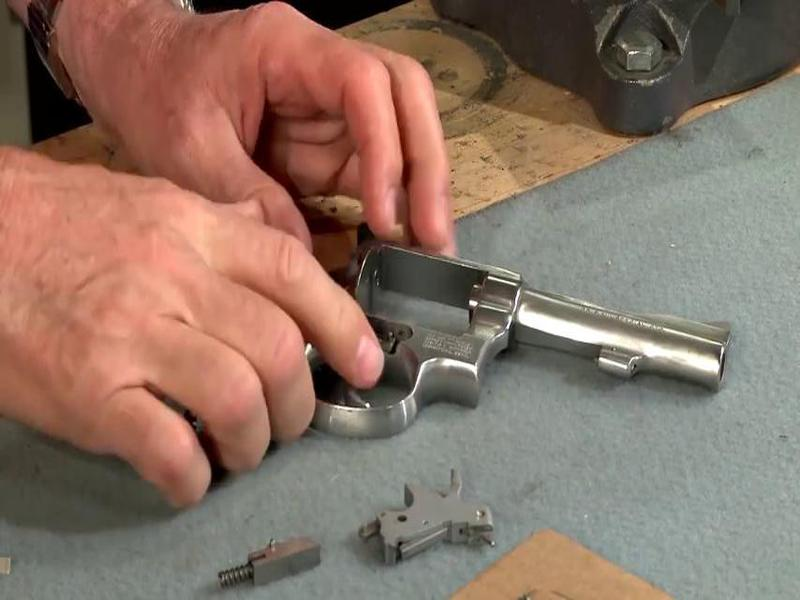Revolver: (137, 207, 741, 506)
